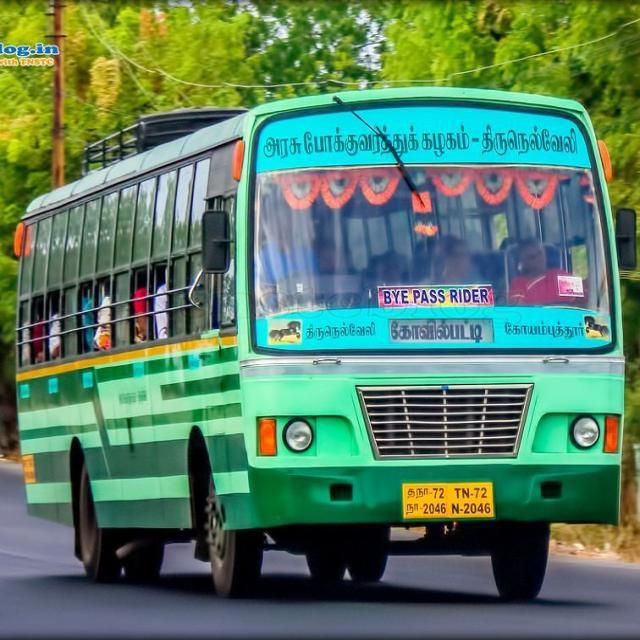Bus: (4, 84, 635, 596)
